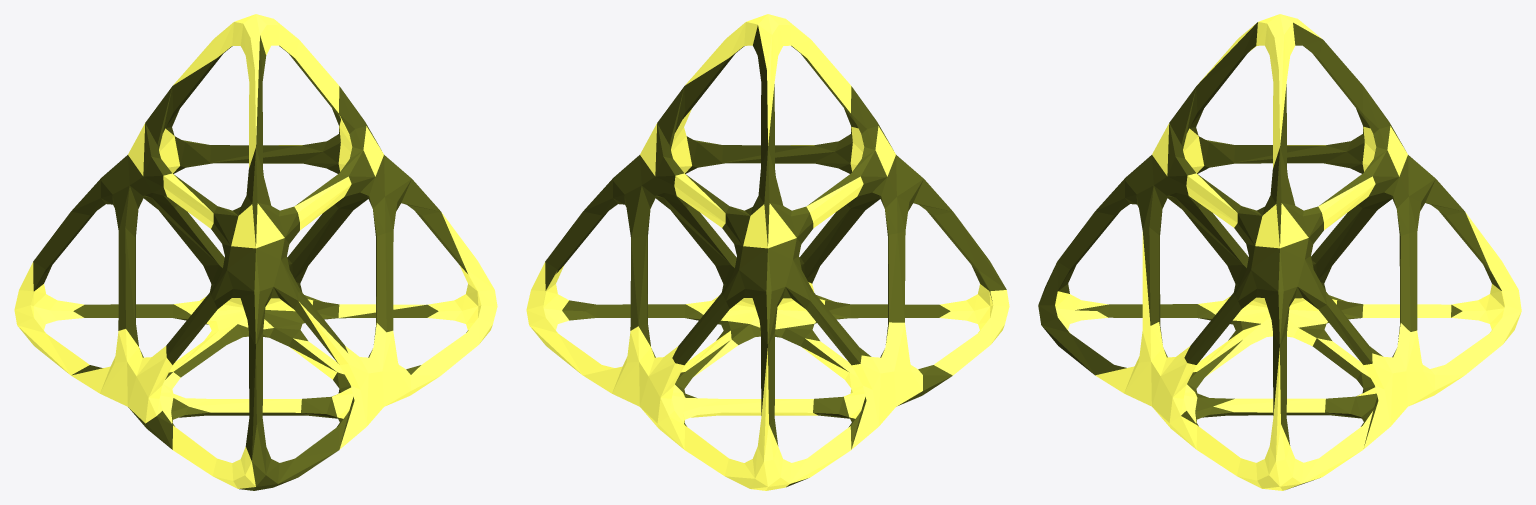
File: bat-net.fbx
3 views of the same model, side by side, from view 1: azimuth 30°, elevation 25°; view 2: azimuth 150°, elevation 25°; view 3: azimuth 270°, elevation 25° (orthographic).
Parts seen in each view (by area): view 1: Solid; view 2: Solid; view 3: Solid.
Part boxes in pixels (bbox=[...]): Solid: bbox=[14, 14, 497, 490]; Solid: bbox=[526, 14, 1009, 490]; Solid: bbox=[1038, 14, 1521, 490].
Size of the model in its own units: 1002 by 940 by 1121.
